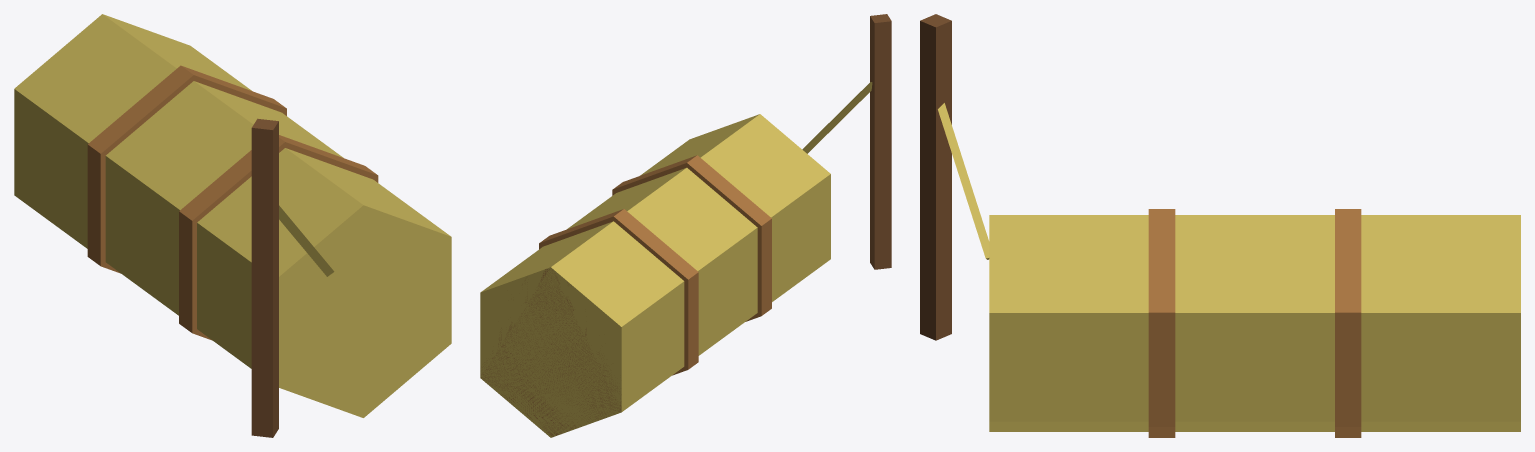
The model's file is covo.glb.
3 views of the same model, side by side, from view 1: azimuth 30°, elevation 25°; view 2: azimuth 150°, elevation 25°; view 3: azimuth 270°, elevation 25° (orthographic). The views are drawn at different scales.
Parts seen in each view (by area): view 1: corpo; view 2: corpo; view 3: corpo.
Part boxes in pixels (<box>): corpo: <box>14,14,451,437</box>; corpo: <box>480,14,891,437</box>; corpo: <box>920,14,1520,437</box>.
Size of the model in its own units: 0.2043 by 0.295 by 0.452.
